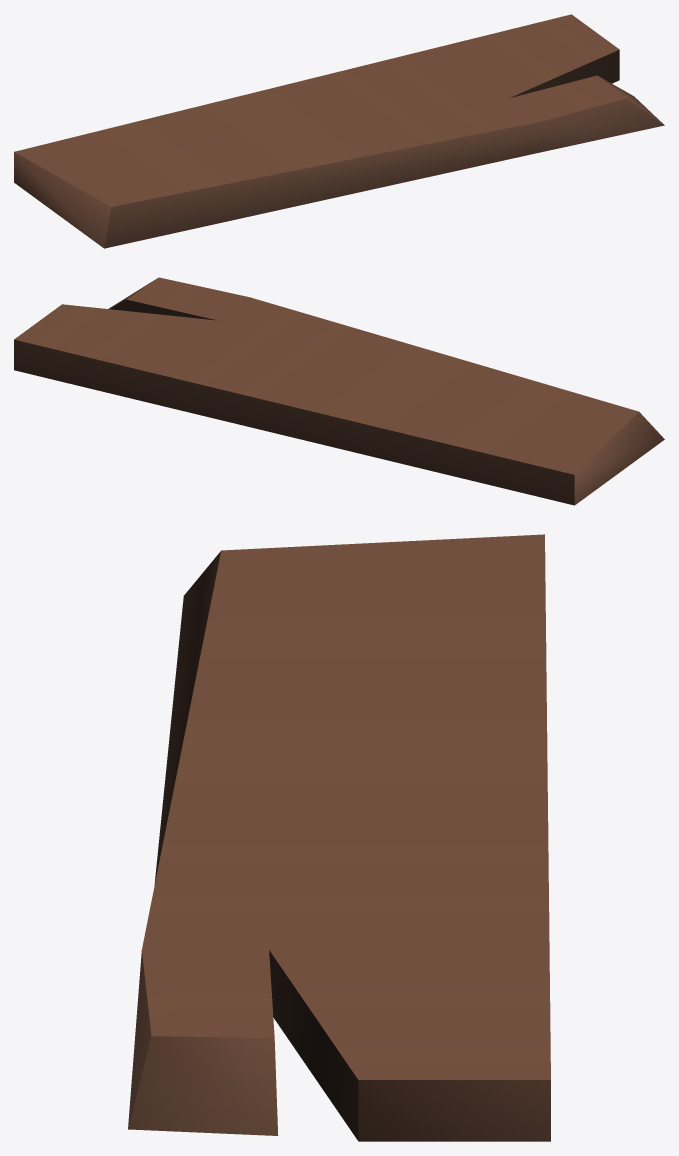
File: Wooden_Plank_1B.fbx
3 renders of one model, top to bottom at view 1: azimuth 30°, elevation 25°; view 2: azimuth 150°, elevation 25°; view 3: azimuth 270°, elevation 25°, orthographic. The views are drawn at different scales.
Visible parts, largest first — view 1: Wooden_Plank_1B; view 2: Wooden_Plank_1B; view 3: Wooden_Plank_1B.
Boxes of the visible parts, x1,y1,x2,y2 form: Wooden_Plank_1B: [14, 14, 664, 248]; Wooden_Plank_1B: [14, 277, 664, 505]; Wooden_Plank_1B: [128, 534, 550, 1141].
Bounding box in the file's own units: 1.91 × 0.1 × 0.6242.
